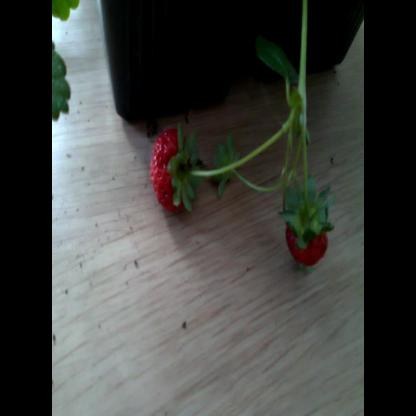ripe: (150, 115, 199, 229), (283, 193, 345, 261)
